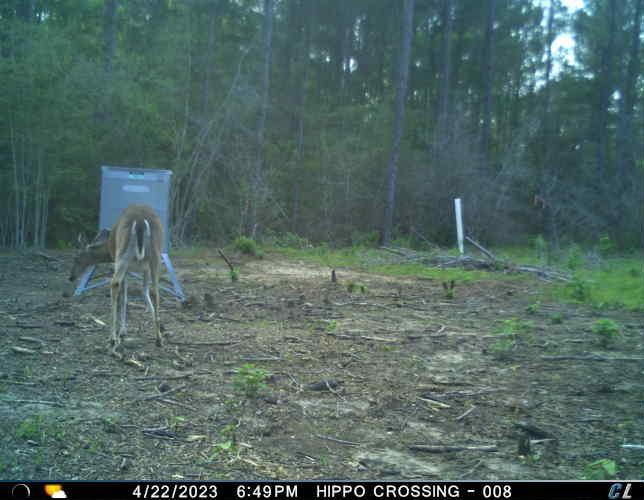Deer: (66, 199, 166, 357)
